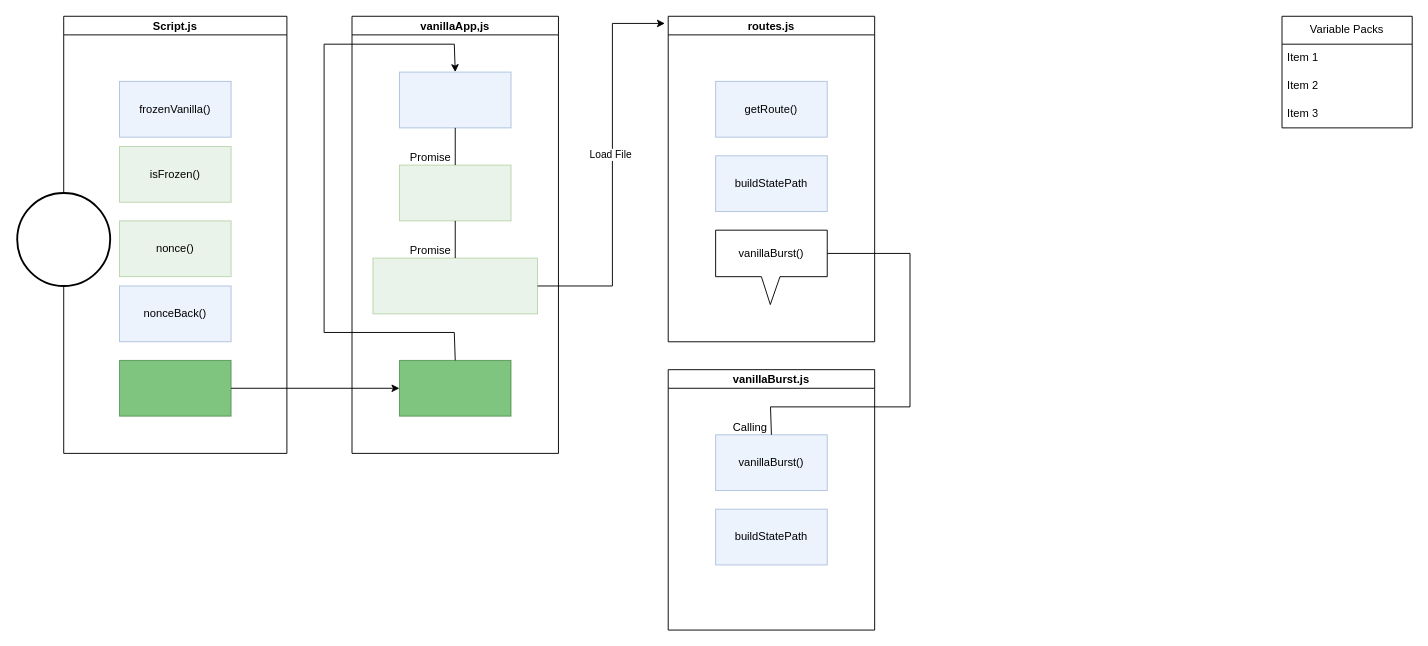
This 1428x646 diagram has some shape labels left out. Each missing label, with the centre of its shape:
loadInitialScripts(): the point at 455,99
promiseRouteAndStateLoad: the point at 455,285
promiseSchemaParts: the point at 455,192
Start: the point at 63,239
start(): the point at 175,387
vanillaApp(): the point at 455,387
